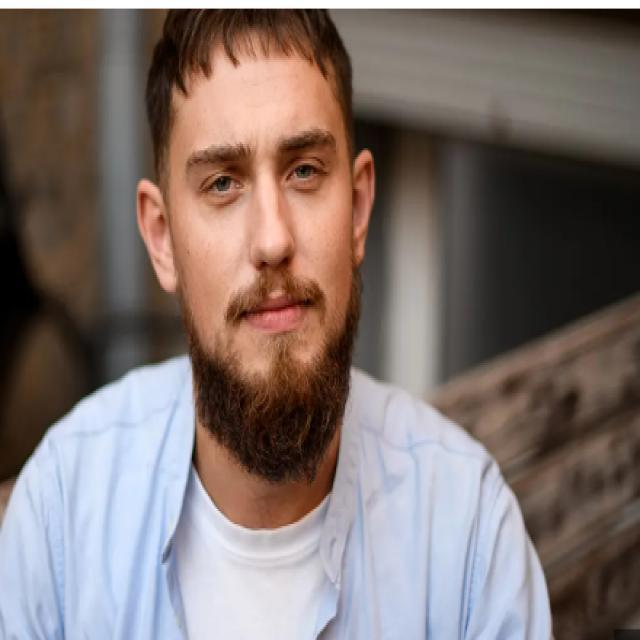face_no_mask: (135, 76, 376, 414)
